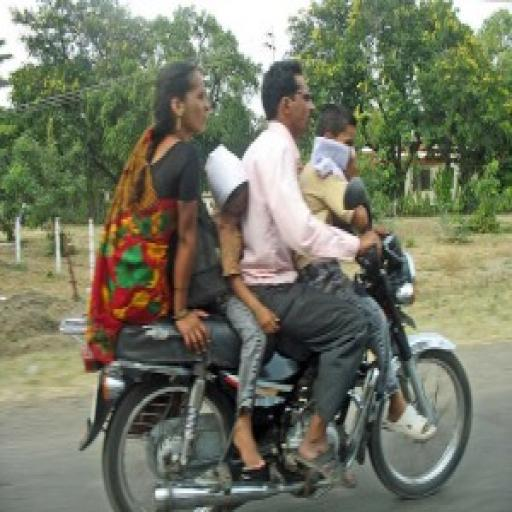overloading: (72, 229, 474, 510)
